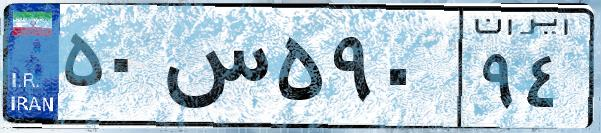0: (385, 28, 445, 110), (110, 28, 158, 98)
4: (525, 38, 570, 115)
5: (270, 28, 330, 110), (57, 26, 110, 100)
9: (330, 28, 385, 110), (475, 38, 525, 113)
س: (158, 20, 270, 120)
